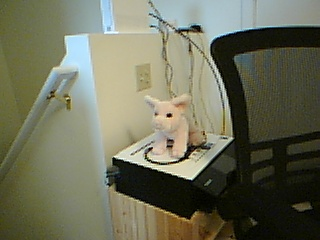piggy: (141, 93, 207, 159)
